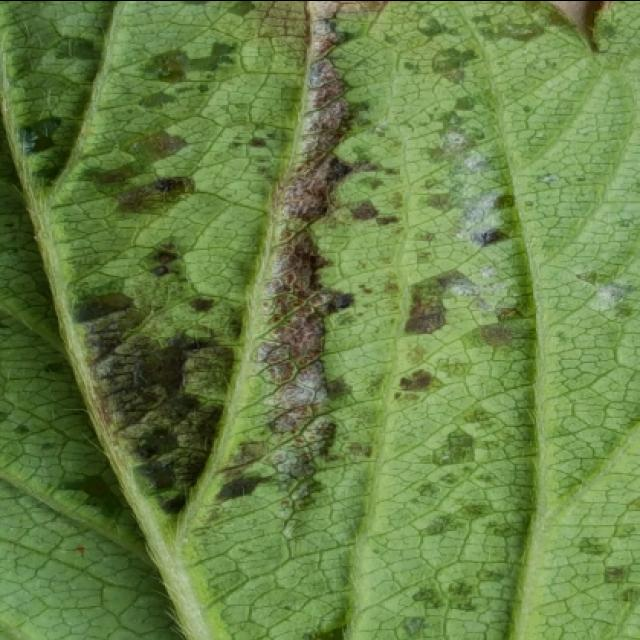Angular Leafspot: (0, 2, 638, 640)
